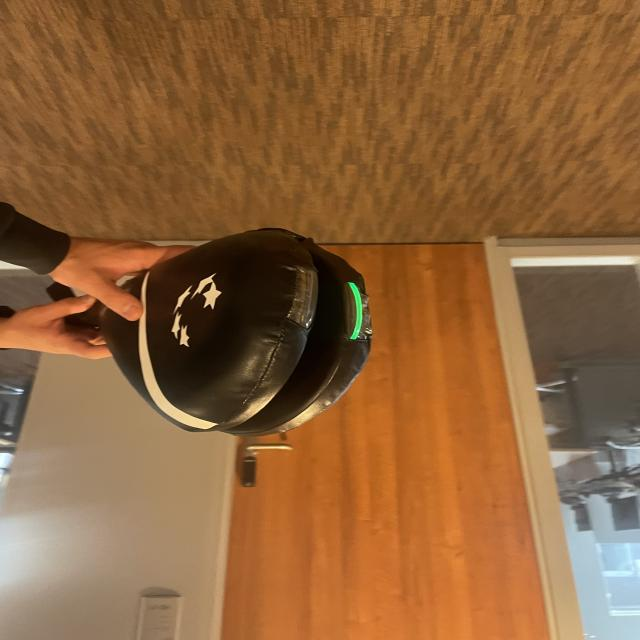paddle: (115, 238, 379, 440)
trigger: (344, 277, 367, 347)
